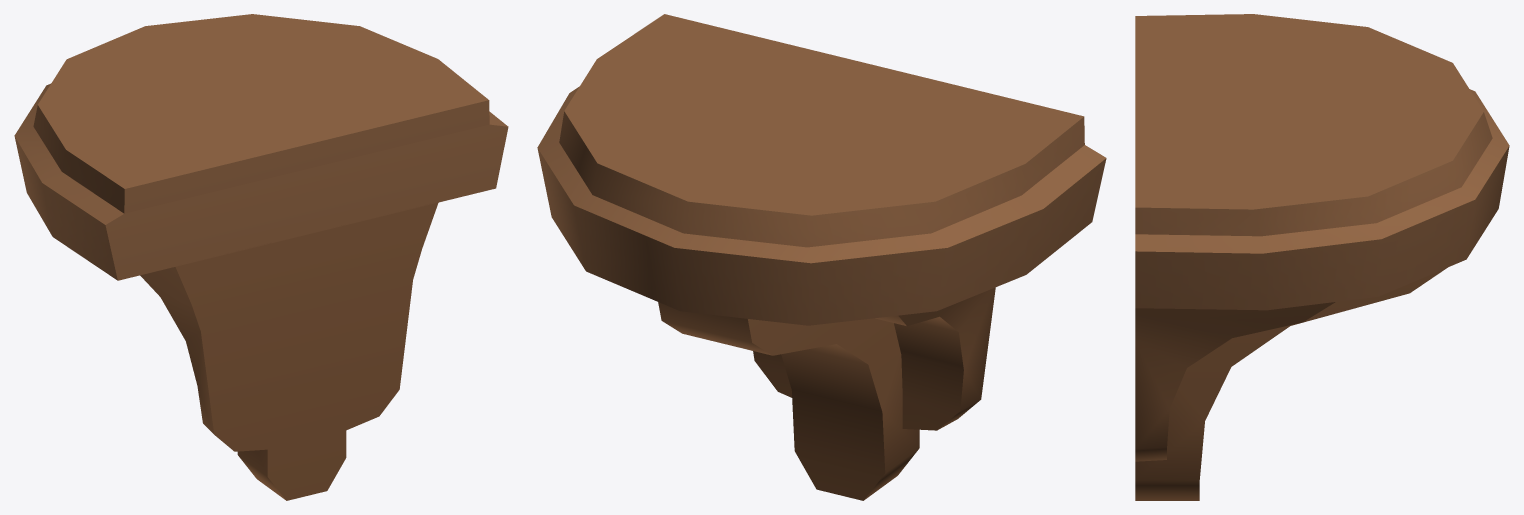
The model's file is WallShelfCircular.fbx.
3 views of the same model, side by side, from view 1: azimuth 30°, elevation 25°; view 2: azimuth 150°, elevation 25°; view 3: azimuth 270°, elevation 25° (orthographic). The views are drawn at different scales.
Parts seen in each view (by area): view 1: WallShelfCircular; view 2: WallShelfCircular; view 3: WallShelfCircular.
Part boxes in pixels (x1,y1,x2,y2): WallShelfCircular: [14, 14, 508, 500]; WallShelfCircular: [537, 14, 1106, 500]; WallShelfCircular: [1135, 14, 1509, 500].
Bounding box in the file's own units: 37.55 × 30.64 × 27.45.
